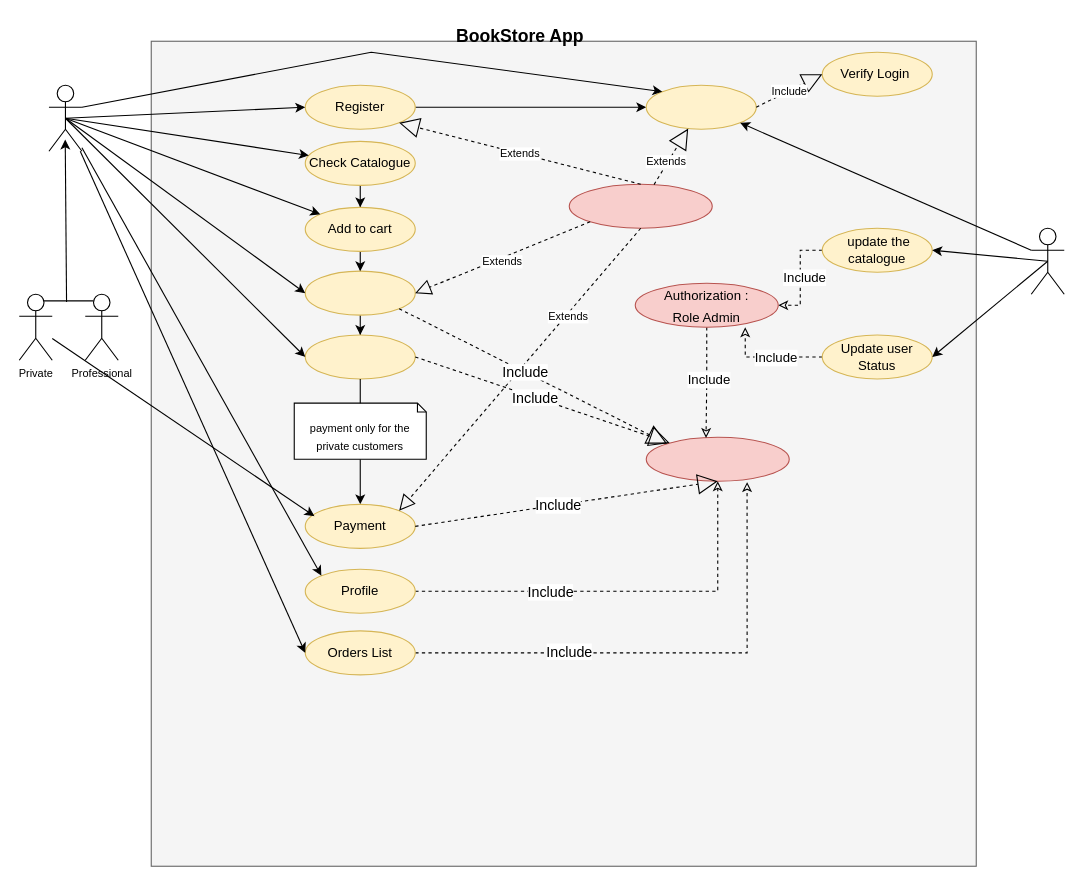
Some shapes in this 1084 by 886 pixel diagram are drawn without their labels. The shapes that lost their labels are listed below. From the top down, each one's centre as x and y in pixels, then its label:
At (65,117): "Customer".
At (700,106): "Login in".
At (640,205): "input fields validation".
At (1047,260): "Admin".
At (359,292): "Ordering".
At (359,356): "Order Summary".
At (717,458): "Authentication".
